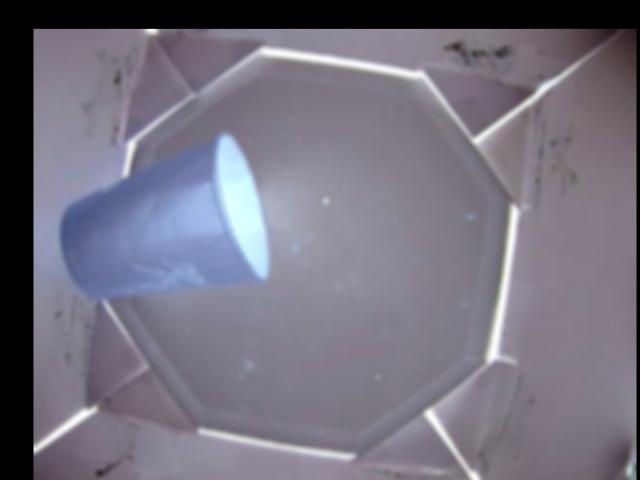Cup: (60, 130, 268, 296)
